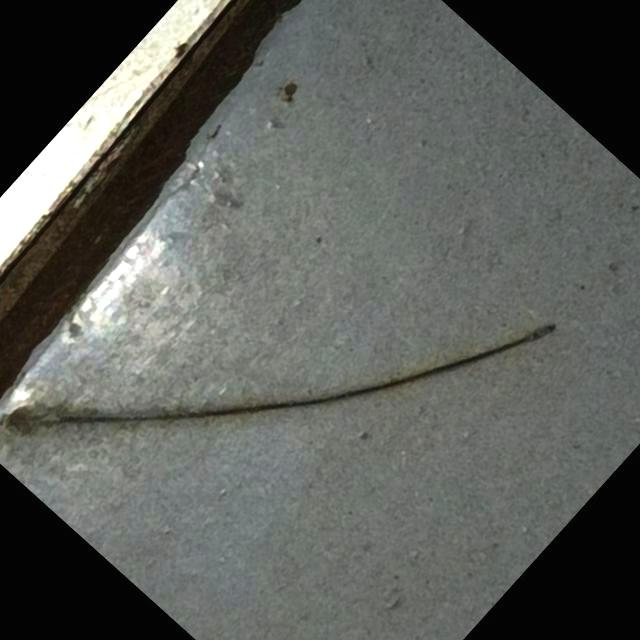defect: (3, 316, 567, 438)
